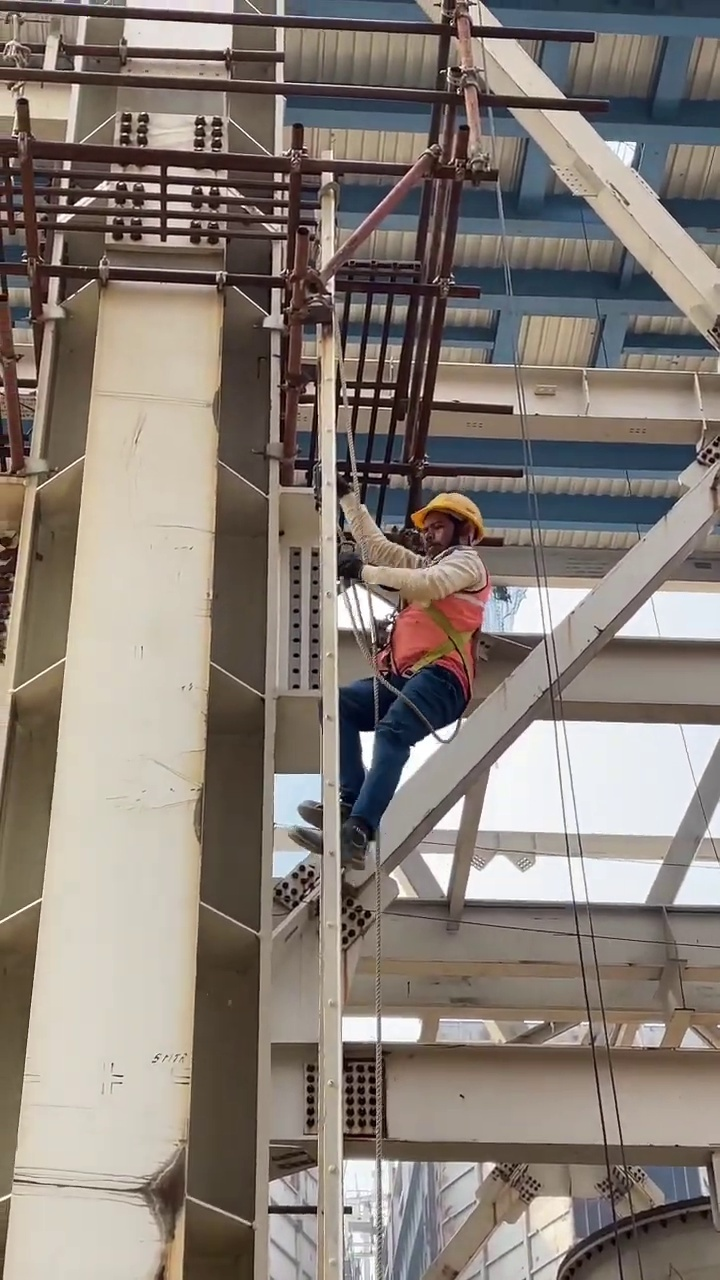Helmet: (413, 489, 484, 529)
Person: (282, 491, 489, 870)
Safety_Harness: (358, 544, 486, 737)
Safety_shoes: (287, 822, 368, 874), (297, 796, 348, 820)
